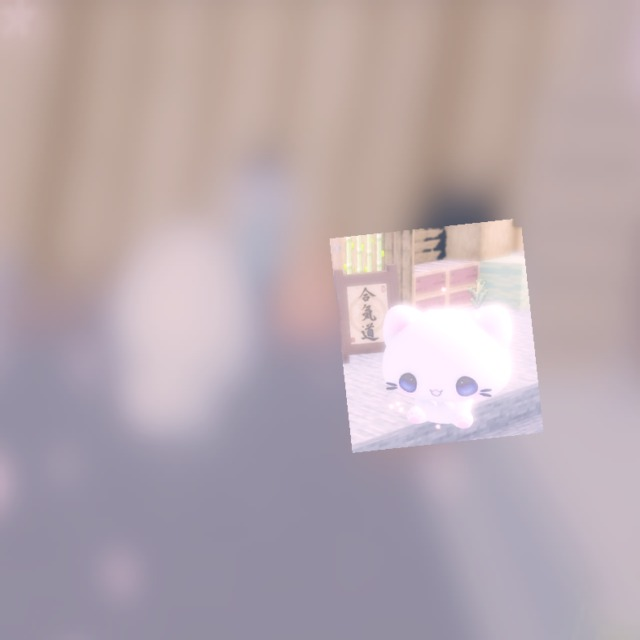urso_branco: (329, 218, 544, 453)
